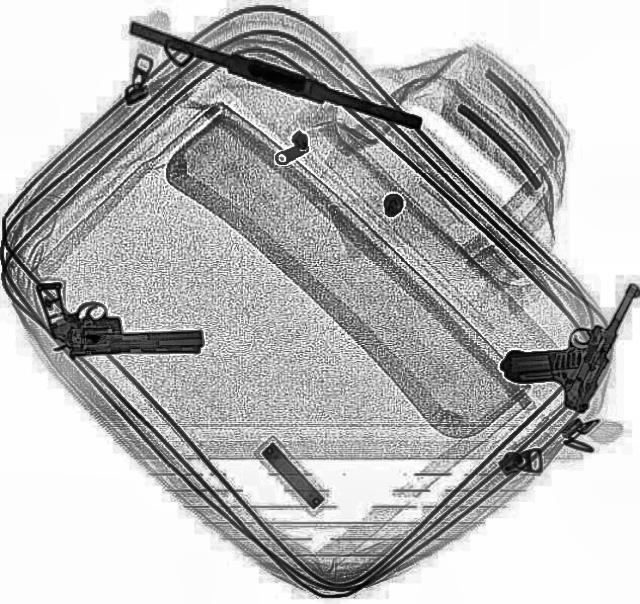Gun: (488, 256, 638, 418), (33, 279, 203, 357)
